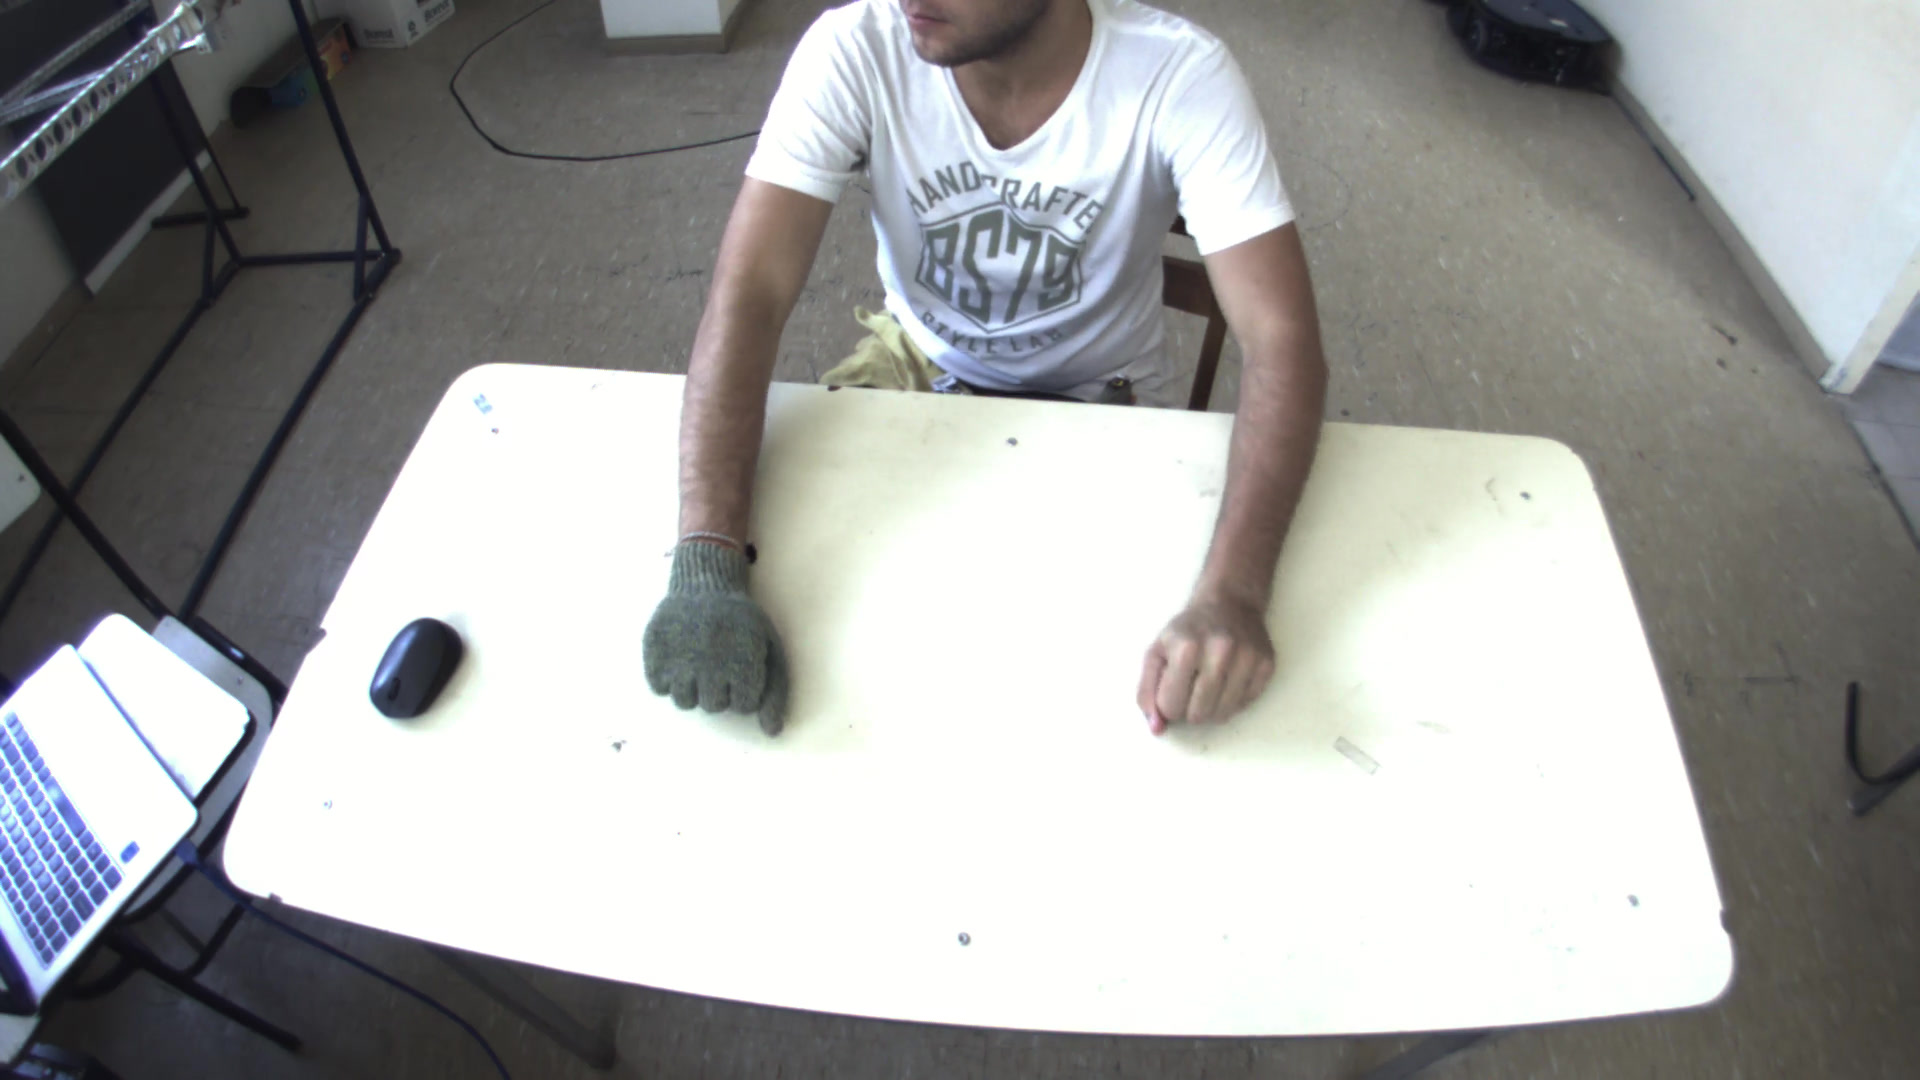hand: (629, 524, 789, 727), (1130, 572, 1291, 731)
